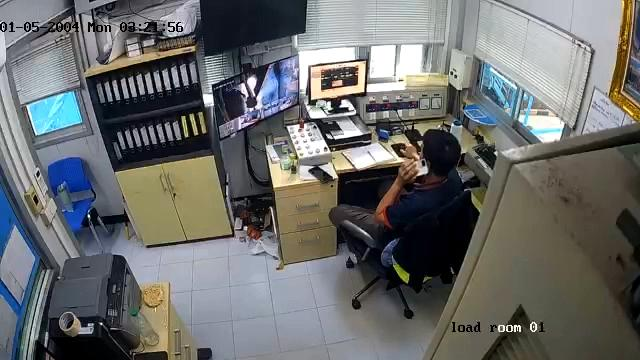Head: (416, 126, 459, 184)
People: (339, 128, 463, 235)
Phone: (308, 166, 334, 184), (414, 158, 429, 176)
